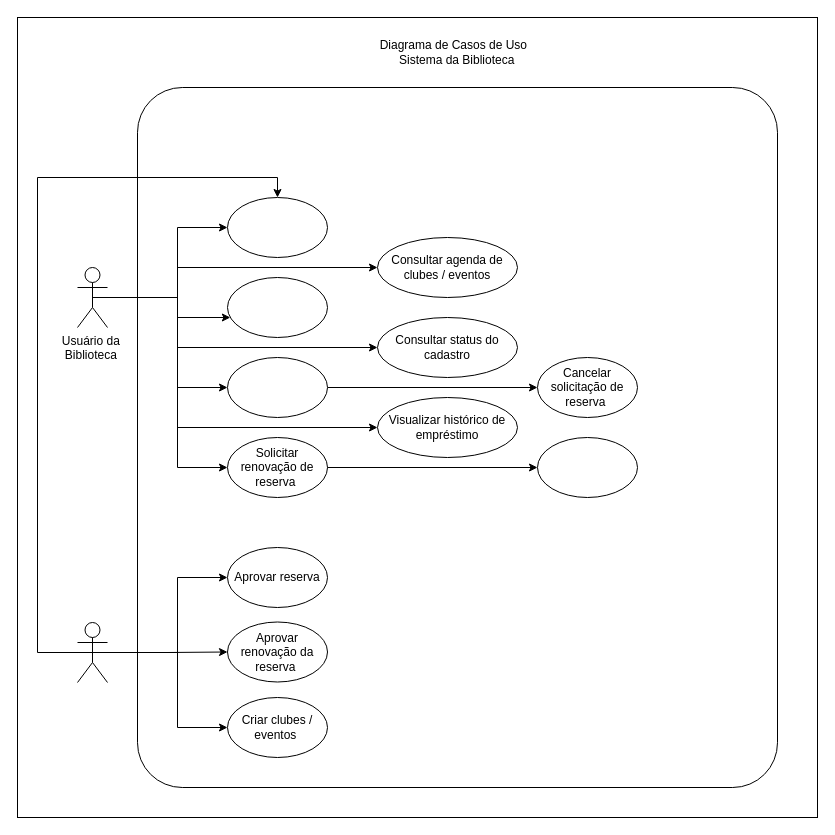
Some shapes in this 835 by 835 pixel diagram are drawn without their labels. Here are the shapes that lost their labels. From the top down, the box of each, then its label:
(226, 196, 328, 258): Fazer Login
(226, 276, 328, 338): Pesquisar item
(226, 356, 328, 418): Solicitar reserva
(536, 436, 638, 498): Cancelar renovação de reserva
(76, 622, 108, 682): Auxiliar de biblioteca
